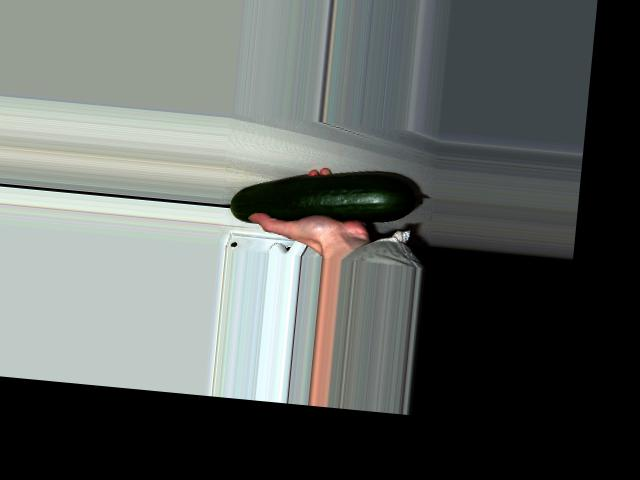cucumber: (229, 157, 425, 238)
